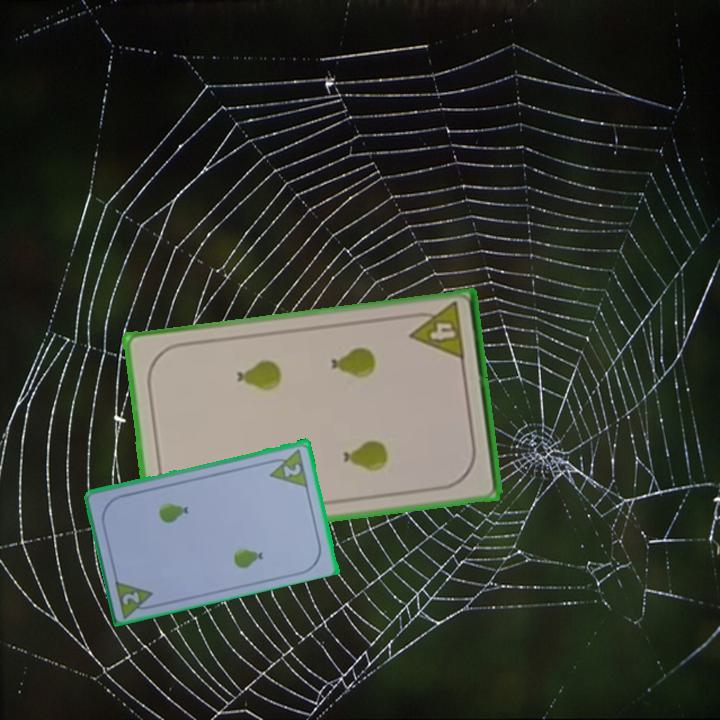2p: (280, 460, 304, 480), (119, 588, 143, 607)
4p: (405, 299, 468, 364)
